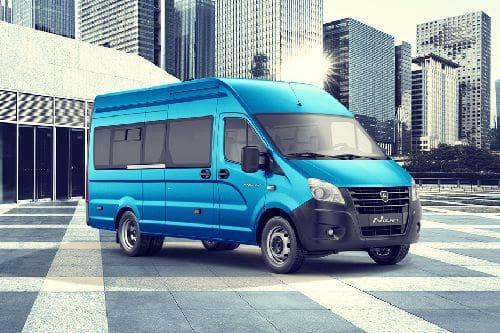van: (85, 76, 422, 274)
